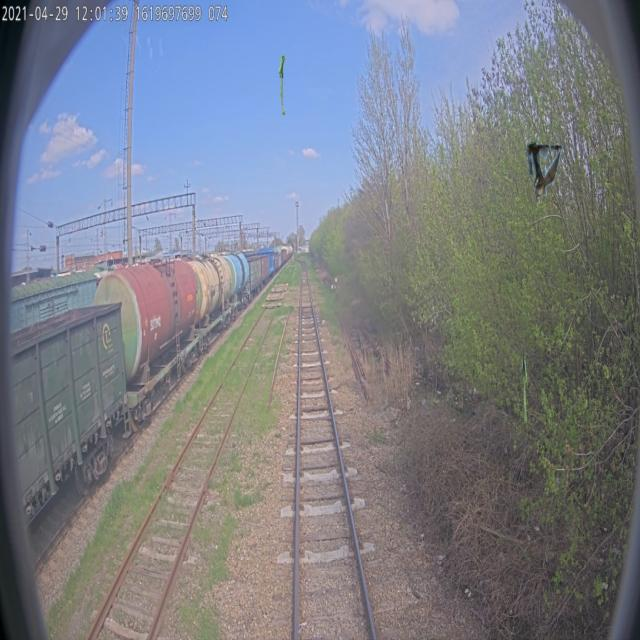floating object: (526, 140, 562, 204), (278, 54, 286, 118), (522, 358, 528, 422)
